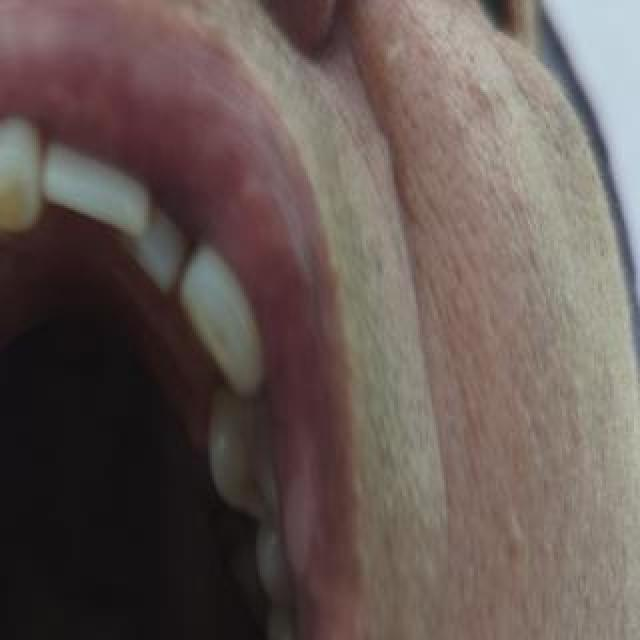maligned: (179, 254, 281, 388), (118, 187, 192, 295)
